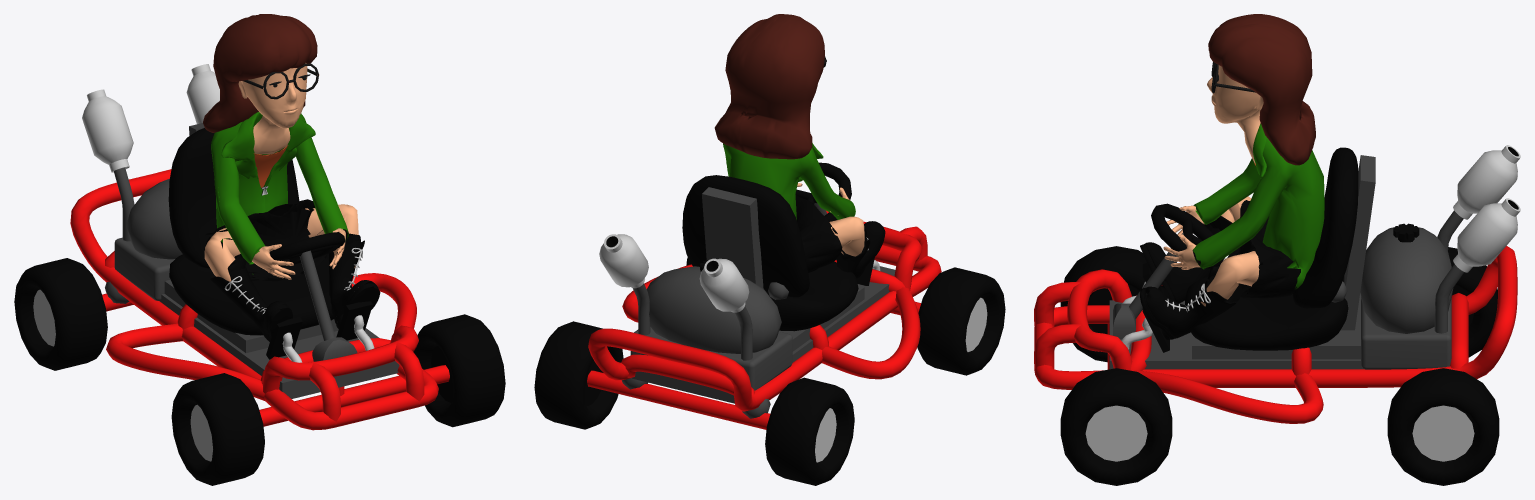
The model's file is player.glb.
The picture shows the model from 3 angles, left to right: view 1: azimuth 30°, elevation 25°; view 2: azimuth 150°, elevation 25°; view 3: azimuth 270°, elevation 25°; orthographic projection. The views are drawn at different scales.
Visible parts, largest first — view 1: kart, daria; view 2: kart, daria; view 3: kart, daria.
Boxes of the visible parts, <box> form: kart: <box>14,64,505,485</box>; daria: <box>203,14,380,341</box>; kart: <box>534,162,1005,485</box>; daria: <box>714,14,885,277</box>; kart: <box>1034,145,1520,485</box>; daria: <box>1140,14,1324,340</box>.
Bounding box in the file's own units: 1.36 × 1.72 × 1.91.
Materials: 2 (2 with a texture image).
